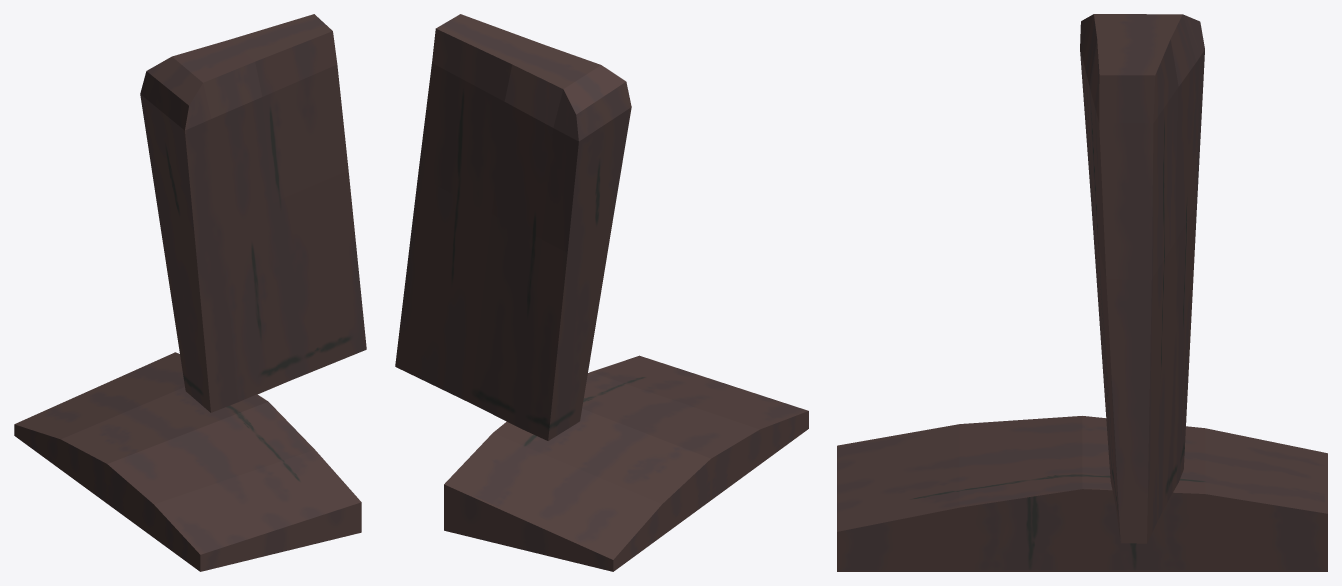
File: Bueste.fbx
The picture shows the model from 3 angles, left to right: view 1: azimuth 30°, elevation 25°; view 2: azimuth 150°, elevation 25°; view 3: azimuth 270°, elevation 25°; orthographic projection. The views are drawn at different scales.
Visible parts, largest first — view 1: Bueste; view 2: Bueste; view 3: Bueste.
Part boxes in pixels (x1,y1,x2,y2): Bueste: (14, 14, 366, 571); Bueste: (395, 14, 808, 571); Bueste: (837, 14, 1327, 571).
Bounding box in the file's own units: 257 × 367 × 300.
